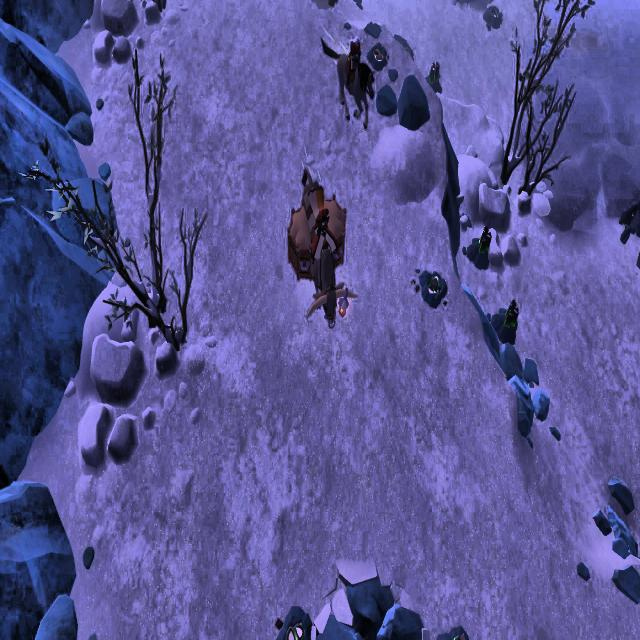ore_t3: (502, 292, 520, 332), (478, 222, 492, 262), (426, 57, 440, 89)
